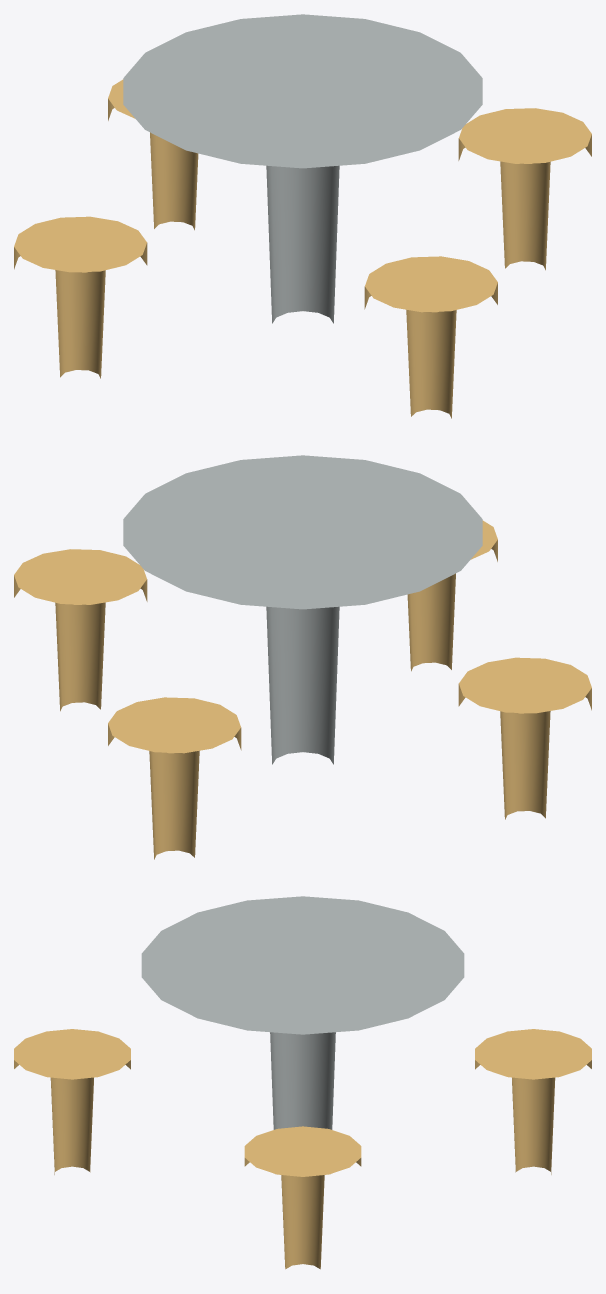
File: hawker-table.glb
3 renders of one model, top to bottom at view 1: azimuth 30°, elevation 25°; view 2: azimuth 150°, elevation 25°; view 3: azimuth 270°, elevation 25°, orthographic. The views are drawn at different scales.
Parts seen in each view (by area): view 1: round_table, fixed_stools; view 2: round_table, fixed_stools; view 3: round_table, fixed_stools.
Part boxes in pixels (left/top/right/bottom): round_table: left=123, top=14, right=482, bottom=323; fixed_stools: left=14, top=79, right=591, bottom=418; round_table: left=123, top=455, right=482, bottom=764; fixed_stools: left=14, top=520, right=591, bottom=859; round_table: left=141, top=896, right=464, bottom=1129; fixed_stools: left=14, top=1029, right=591, bottom=1269.
Bounding box in the file's own units: 5.04 × 2 × 5.01.
